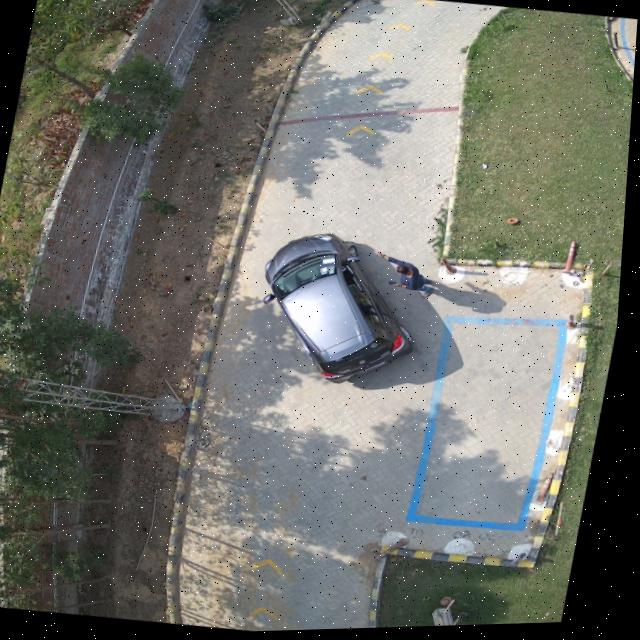car: (268, 234, 418, 385)
